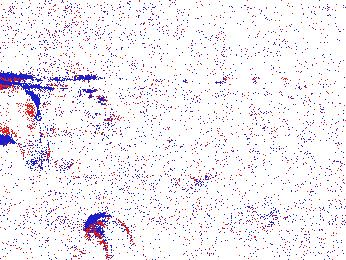flame jellyfish: (1, 83, 51, 172), (215, 204, 283, 260), (75, 212, 134, 260)
